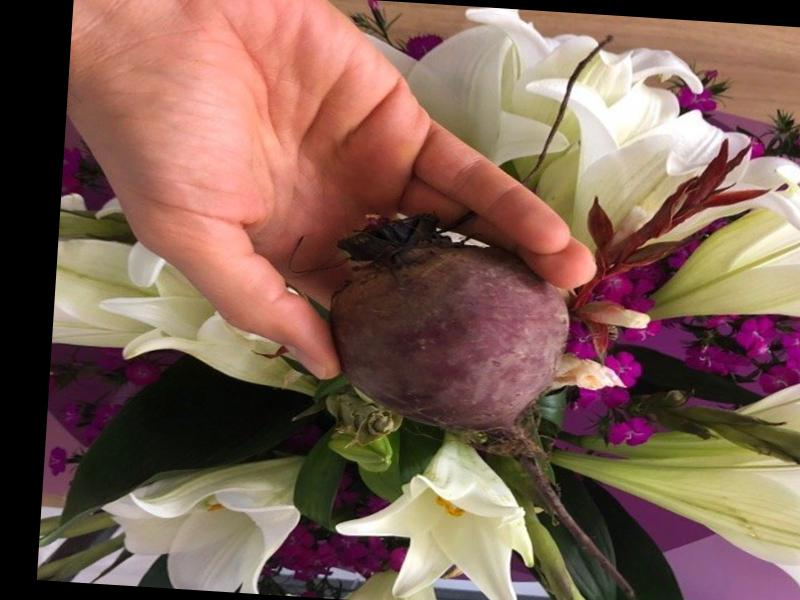Beet: (313, 210, 664, 600)
